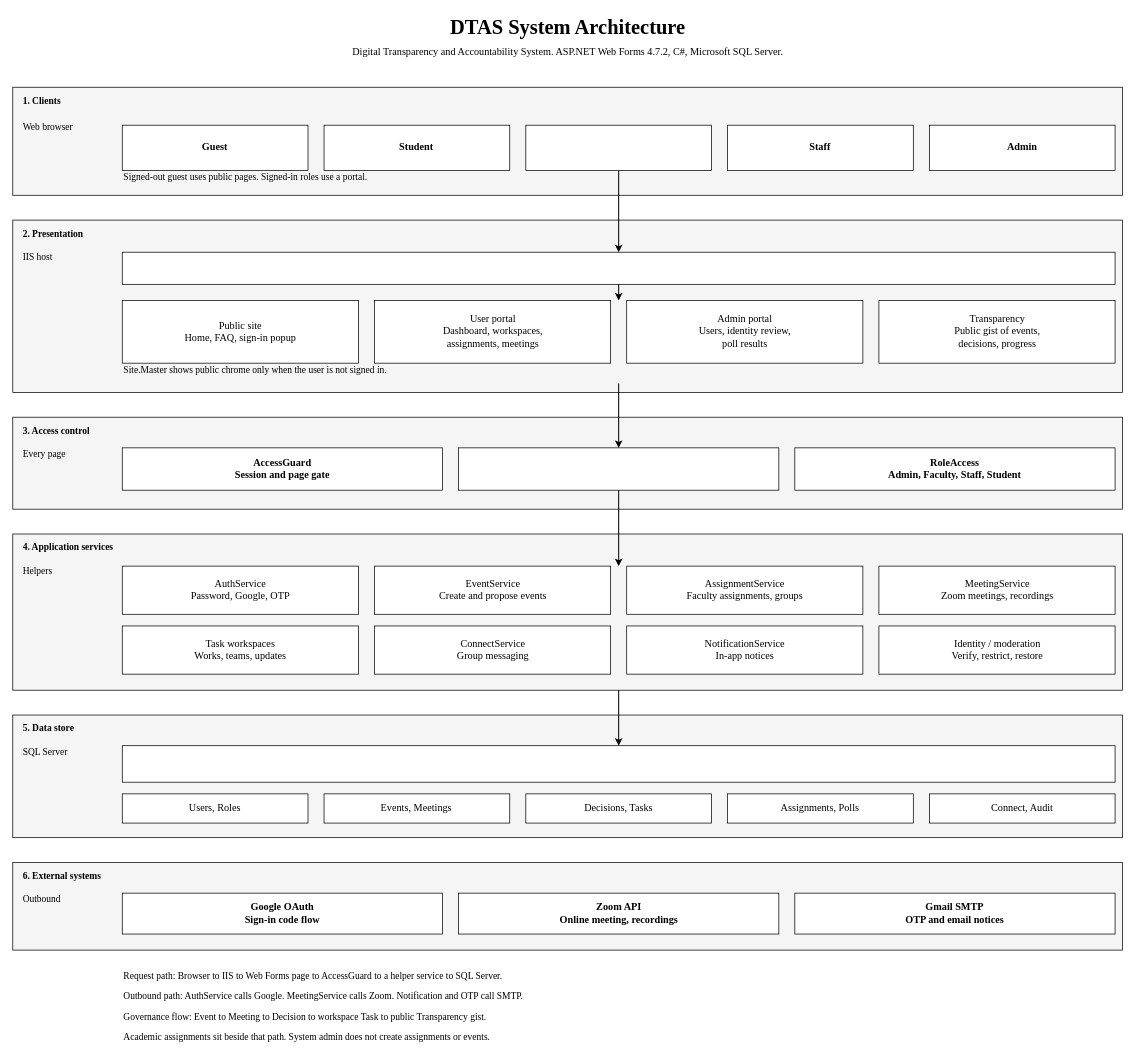
Image size: 1135x1057. Some labels were removed from this diagram. Each missing label, with the centre of its shape:
DigitalTransparencyDB on SQL Server Express (parameterized SqlClient): the point at 618,763
Faculty: the point at 618,147
Identity check ID required for modules: the point at 618,468
IIS / IIS Express hosts ASP.NET Web Forms 4.7.2 and Site.Master: the point at 618,267
